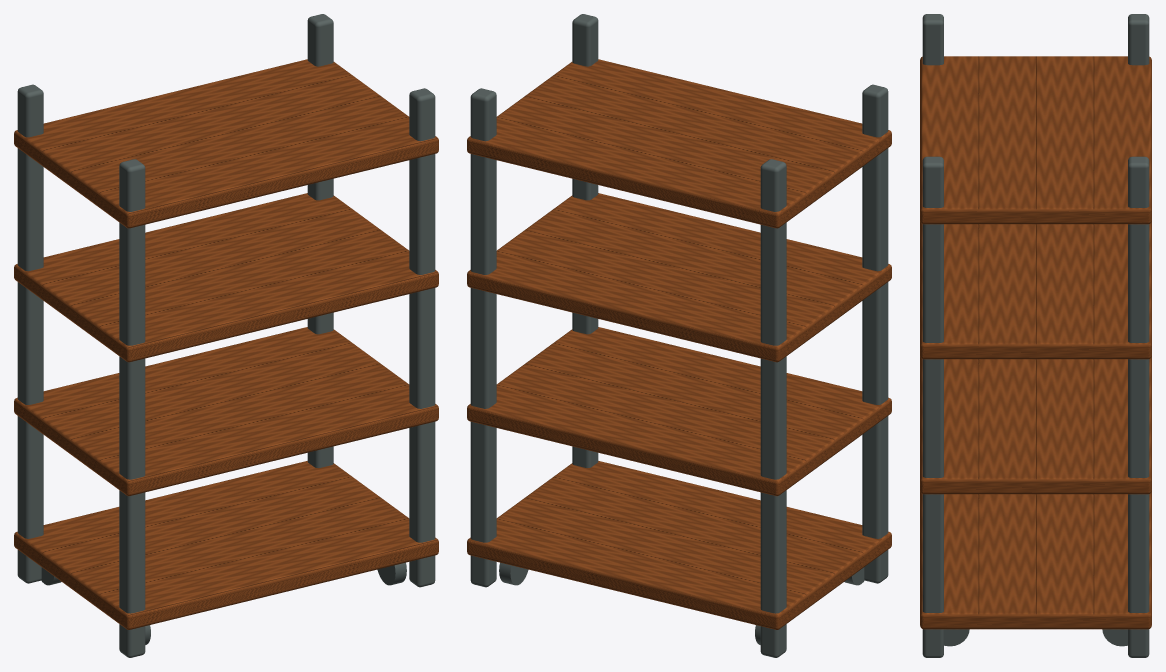
The model's file is ceramics-pottery-studio-ware-trolley-ca15402f__29491.glb.
3 renders of one model, left to right at view 1: azimuth 30°, elevation 25°; view 2: azimuth 150°, elevation 25°; view 3: azimuth 270°, elevation 25°, orthographic.
Parts seen in each view (by area): view 1: ware-trolley; view 2: ware-trolley; view 3: ware-trolley.
Part boxes in pixels (<box>): ware-trolley: <box>14,14,438,657</box>; ware-trolley: <box>467,14,891,657</box>; ware-trolley: <box>920,14,1151,657</box>.
Bounding box in the file's own units: 1.1 × 1.65 × 0.7.
Materials: 2 (1 with a texture image).
